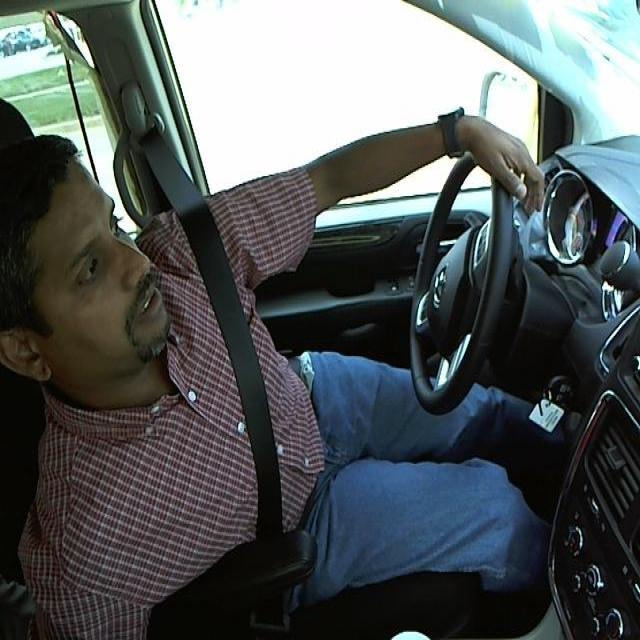seatbelt: (173, 216, 310, 537)
